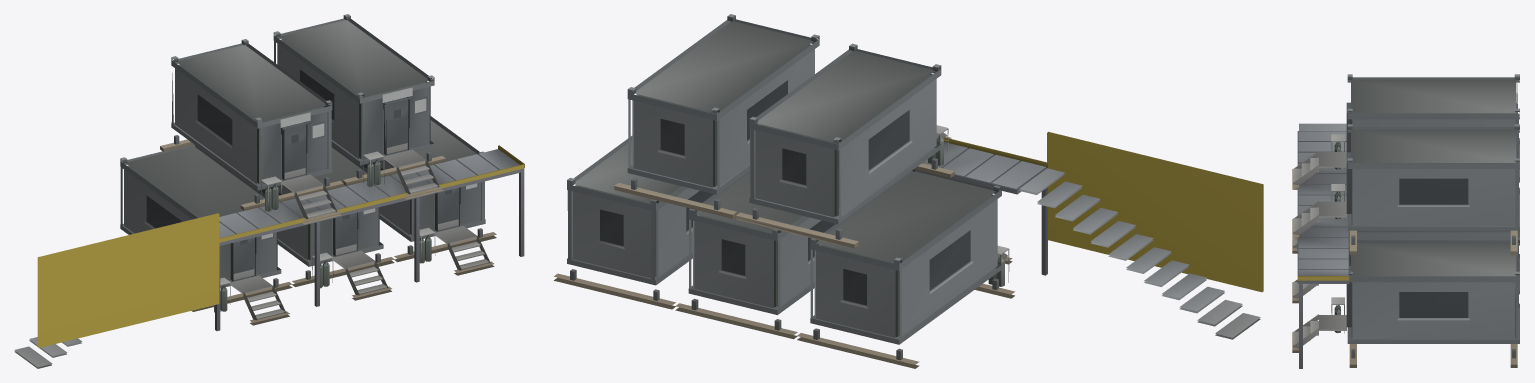
Rendered from cabins.lod.glb.
3 views of the same model, side by side, from view 1: azimuth 30°, elevation 25°; view 2: azimuth 150°, elevation 25°; view 3: azimuth 270°, elevation 25° (orthographic). The views are drawn at different scales.
Parts seen in each view (by area): view 1: cabins; view 2: cabins; view 3: cabins.
Part boxes in pixels (x1,y1,x2,y2): cabins: (14, 14, 524, 368); cabins: (554, 14, 1263, 368); cabins: (1292, 74, 1519, 368).
Size of the model in its own units: 19.55 by 6.79 by 7.96.
